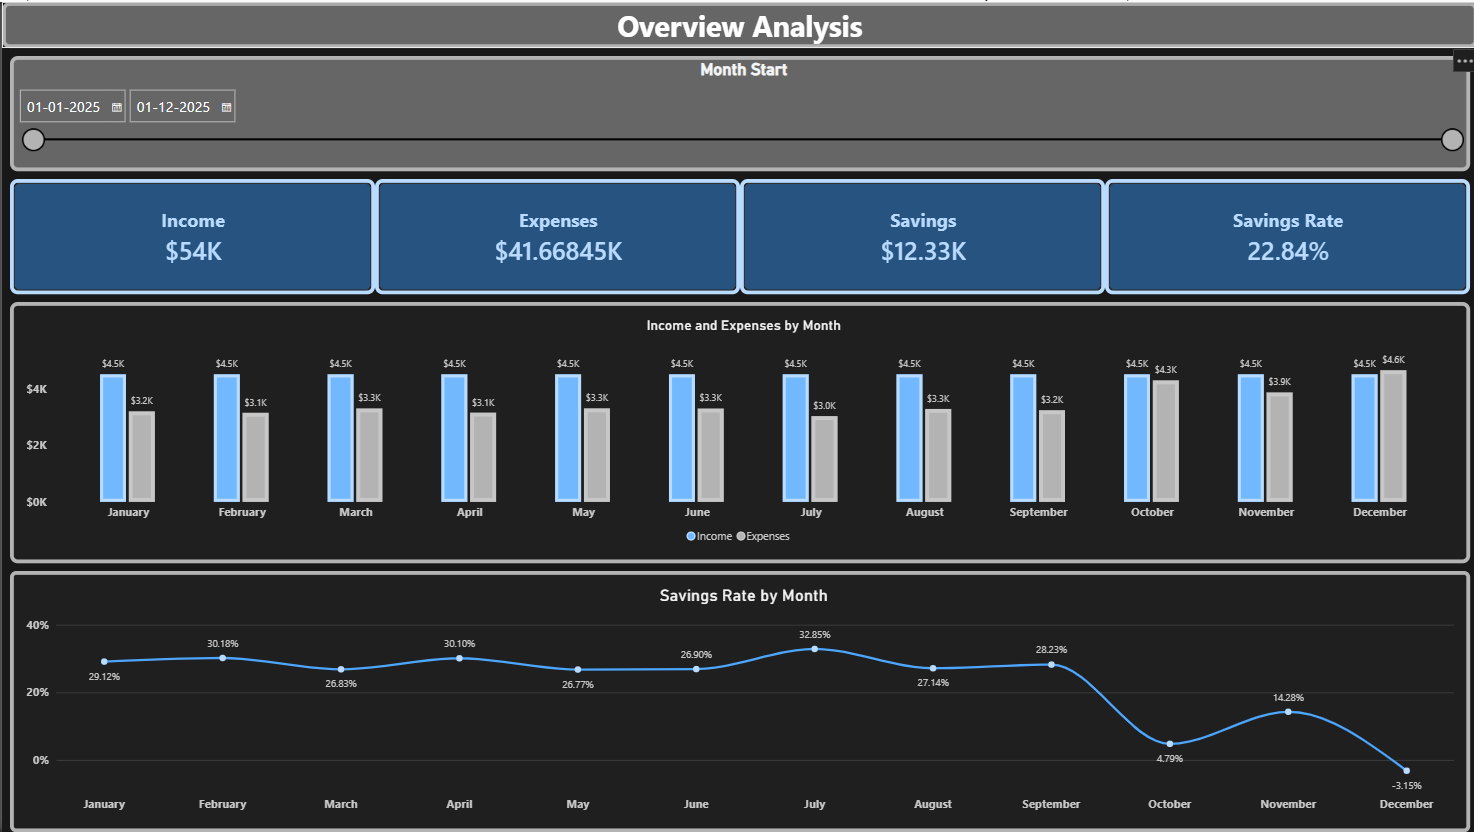

The page's visual inventory and layout, read from the dashboard file:
{"tool":"powerbi","page":{"name":"Overview","canvas":[1920,1080],"ordinal":0},"visuals":[{"type":"slicer","title":"Month Start","fields":{"Values":["Clean_Transactions.Month Start"]},"box":[10,70,1900,150],"z":0},{"type":"textbox","box":[0,0,1920,60],"z":1000},{"type":"cardVisual","fields":{"Data":["Clean_Transactions.Income"]},"box":[10.4,230,475,150],"z":2000},{"type":"cardVisual","fields":{"Data":["Clean_Transactions.Expenses"]},"box":[485.3,230.3,475,150],"z":3000},{"type":"cardVisual","fields":{"Data":["Clean_Transactions.Savings"]},"box":[960.3,230.3,475,150],"z":4000},{"type":"cardVisual","fields":{"Data":["Clean_Transactions.Savings Rate"]},"box":[1435.2,230.3,475,150],"z":5000},{"type":"clusteredColumnChart","fields":{"Category":["Clean_Transactions.Month Start.Variation.Date Hierarchy.Year","Clean_Transactions.Month Start.Variation.Date Hierarchy.Quarter","Clean_Transactions.Month Start.Variation.Date Hierarchy.Month","Clean_Transactions.Month Start.Variation.Date Hierarchy.Day"],"Y":["Clean_Transactions.Income","Clean_Transactions.Expenses"]},"box":[10,390,1900,340],"z":6000},{"type":"lineChart","fields":{"Category":["Clean_Transactions.Month Start.Variation.Date Hierarchy.Year","Clean_Transactions.Month Start.Variation.Date Hierarchy.Quarter","Clean_Transactions.Month Start.Variation.Date Hierarchy.Month","Clean_Transactions.Month Start.Variation.Date Hierarchy.Day"],"Y":["Clean_Transactions.Savings Rate"]},"box":[10,740,1900,340],"z":7000}]}

Visuals, with their boxes in screenshot pixels (x1, y1, x2, y2), scaled from the page's 1920x1080 canvas onto the 1474x832 screenshot:
"Month Start" slicer: rect(8, 54, 1466, 169)
textbox: rect(0, 0, 1473, 46)
cardVisual - Clean_Transactions.Income: rect(8, 177, 373, 293)
cardVisual - Clean_Transactions.Expenses: rect(373, 177, 737, 293)
cardVisual - Clean_Transactions.Savings: rect(737, 177, 1102, 293)
cardVisual - Clean_Transactions.Savings Rate: rect(1102, 177, 1466, 293)
clusteredColumnChart - Clean_Transactions.Month Start.Variation.Date Hierarchy.Year x Clean_Transactions.Month Start.Variation.Date Hierarchy.Quarter: rect(8, 300, 1466, 562)
lineChart - Clean_Transactions.Month Start.Variation.Date Hierarchy.Year x Clean_Transactions.Month Start.Variation.Date Hierarchy.Quarter: rect(8, 570, 1466, 831)
